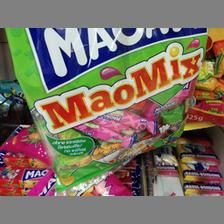Suessigkeit: (4, 28, 208, 188)
